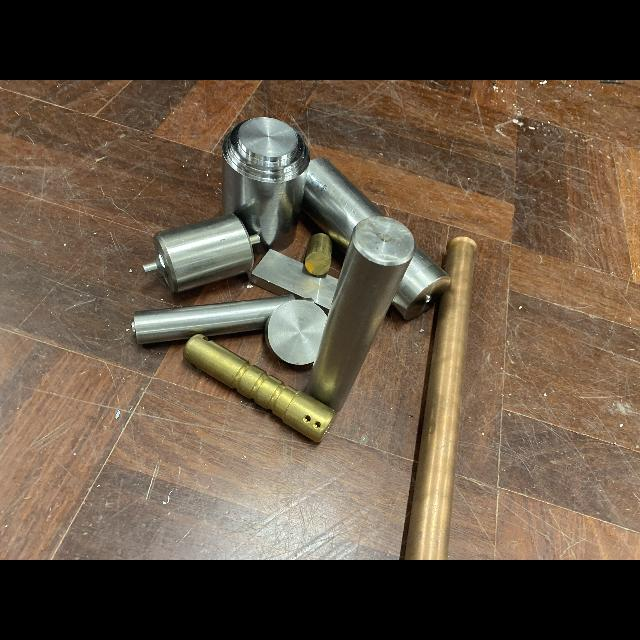Brass: (185, 335, 336, 443), (304, 233, 332, 277)
Copper: (404, 236, 477, 560)
Stainless Steel: (305, 217, 415, 411), (222, 117, 310, 250), (142, 214, 261, 293), (132, 295, 295, 344), (304, 158, 386, 252), (250, 250, 338, 310), (265, 299, 327, 365), (393, 245, 449, 318)
